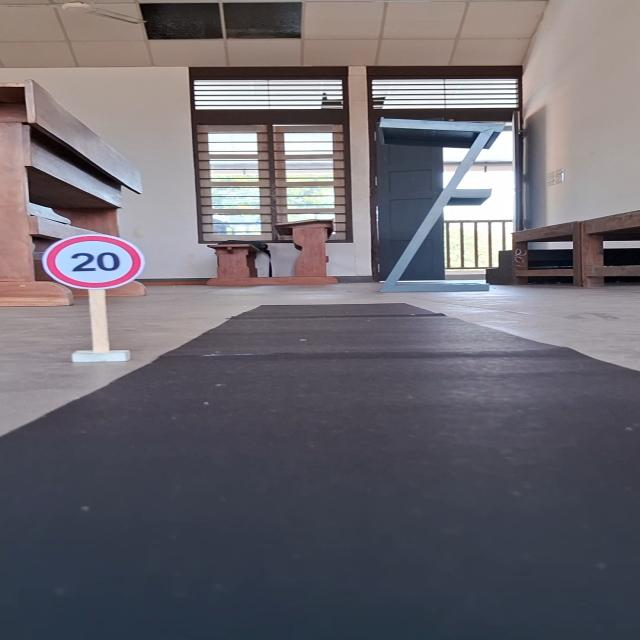Speed20: (40, 231, 150, 291)
